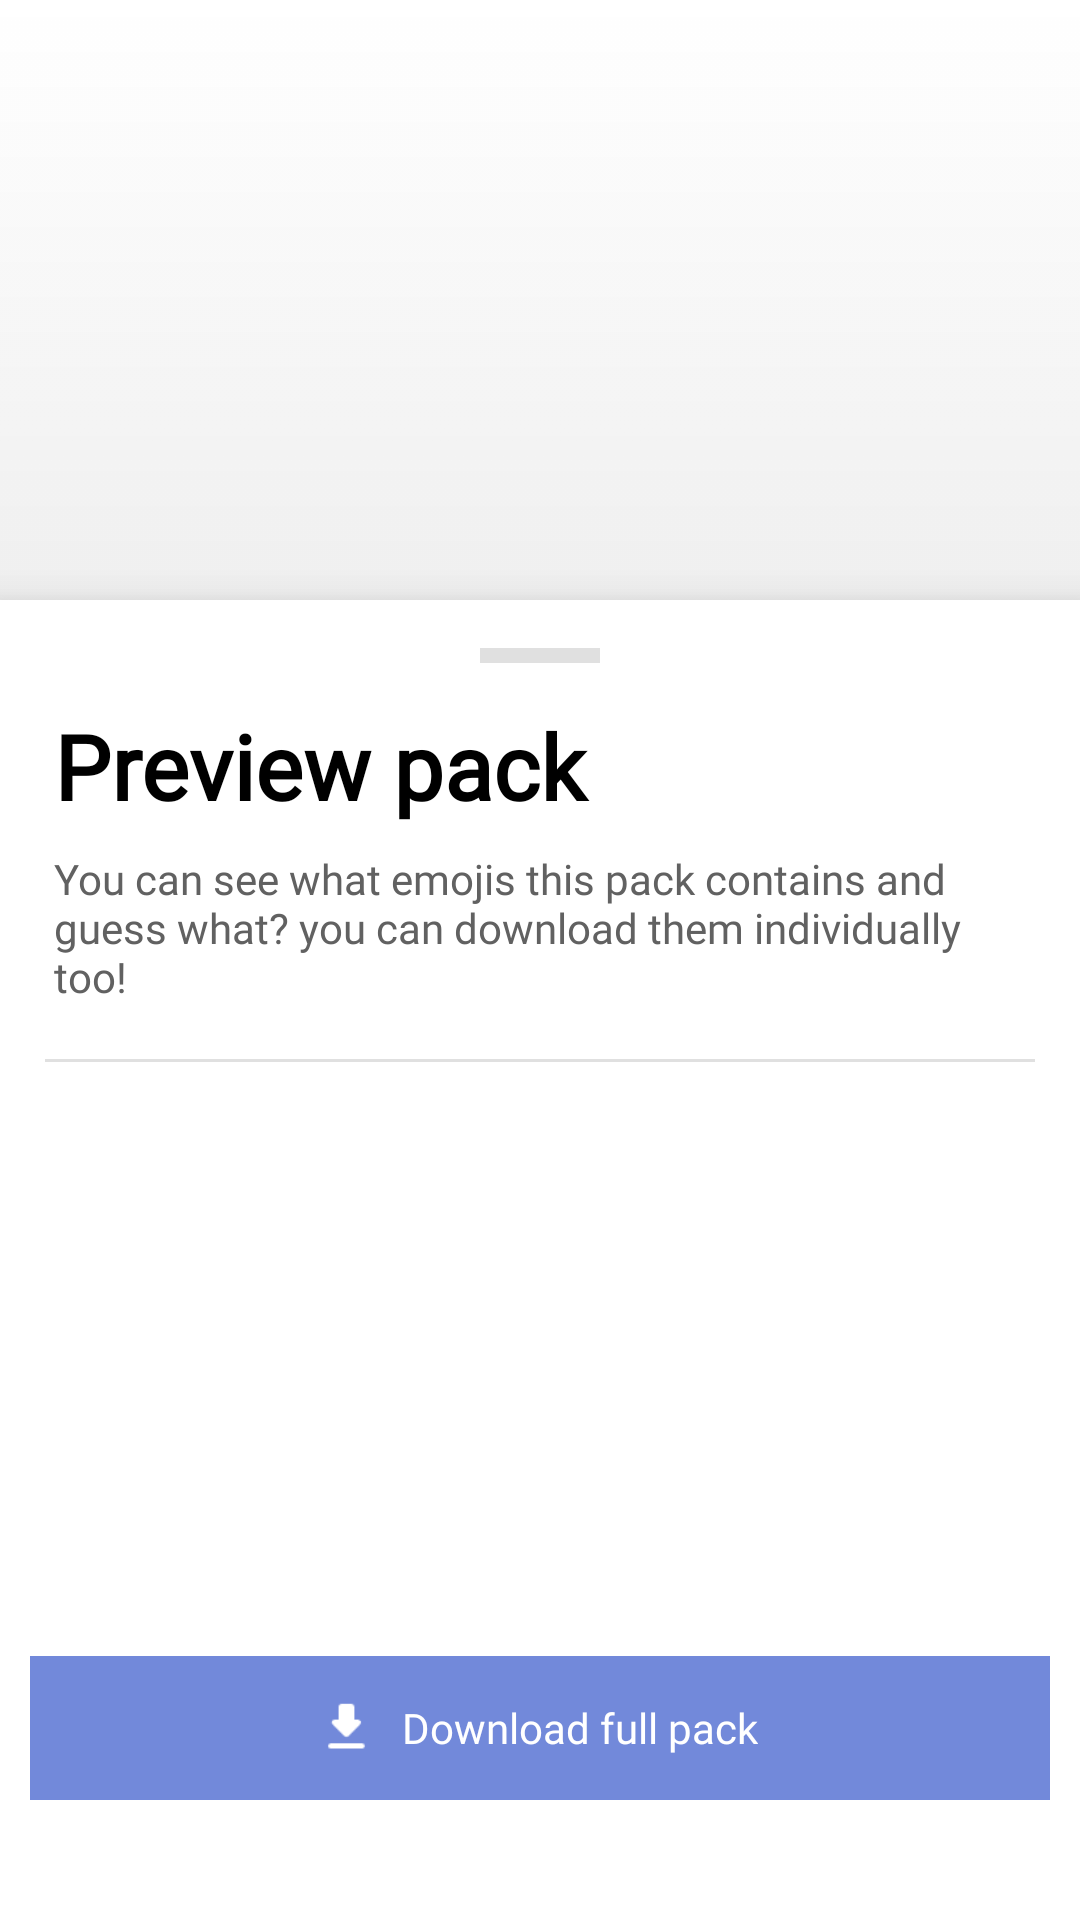

Screen size 1080x1920. Icon name, then its center in pixels as (x,y):
get app: (346,1726)
